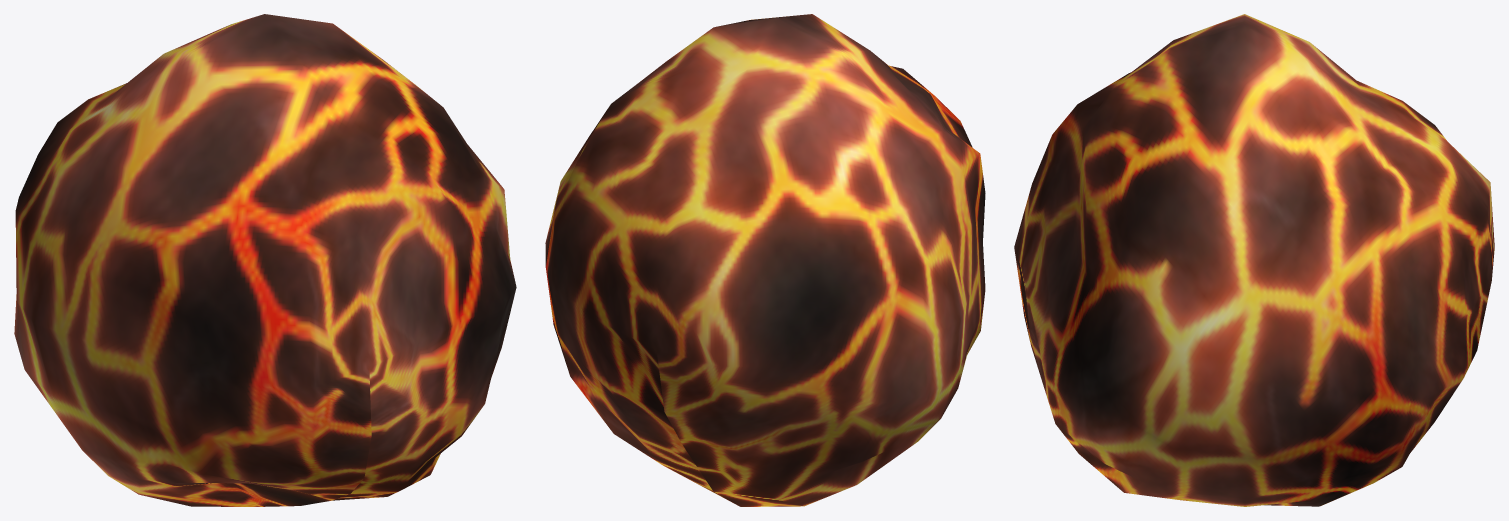
The model's file is fireball.fbx.
The picture shows the model from 3 angles, left to right: view 1: azimuth 30°, elevation 25°; view 2: azimuth 150°, elevation 25°; view 3: azimuth 270°, elevation 25°; orthographic projection. The views are drawn at different scales.
Parts seen in each view (by area): view 1: Sphere; view 2: Sphere; view 3: Sphere.
Part boxes in pixels (box(x1,y1,x2,y2)): Sphere: box(14, 14, 516, 506); Sphere: box(545, 14, 985, 506); Sphere: box(1014, 14, 1494, 506).
Size of the model in its own units: 1.87 by 2.1 by 1.9.
